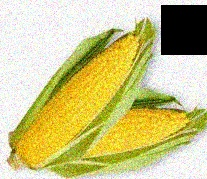corn: (9, 24, 152, 172), (50, 109, 205, 176)
